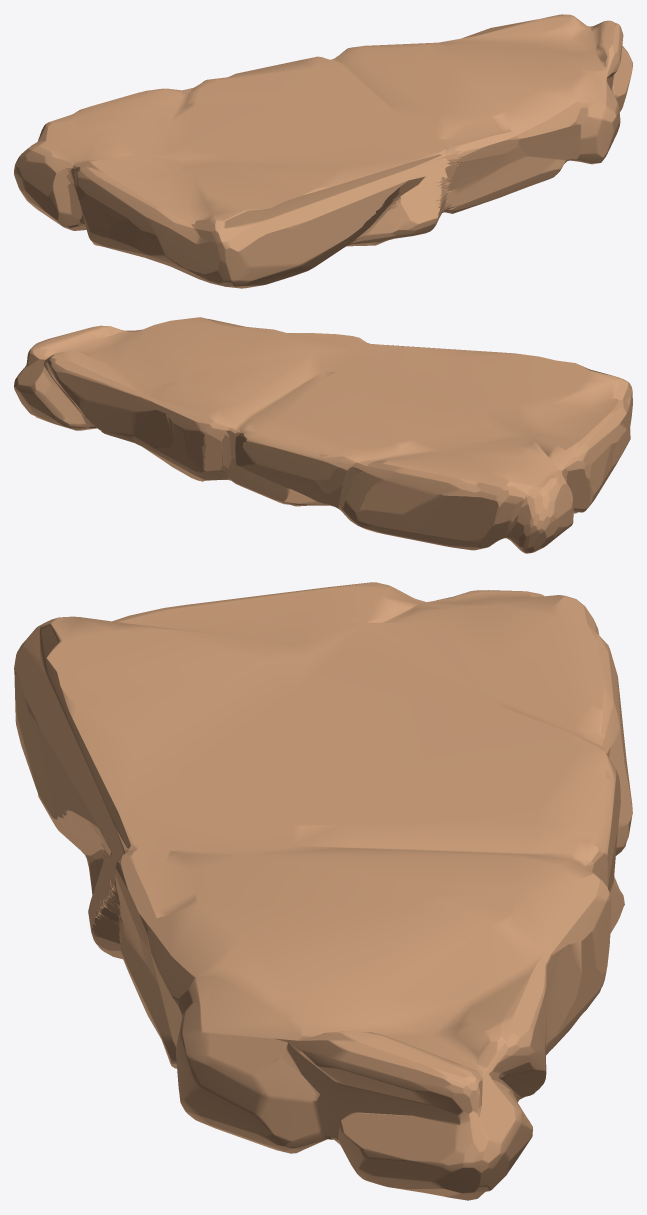
The picture shows the model from 3 angles, top to bottom: view 1: azimuth 30°, elevation 25°; view 2: azimuth 150°, elevation 25°; view 3: azimuth 270°, elevation 25°; orthographic projection. The views are drawn at different scales.
Visible parts, largest first — view 1: Mesh_114_LOD0; view 2: Mesh_114_LOD0; view 3: Mesh_114_LOD0.
Part boxes in pixels (x1,y1,x2,y2): Mesh_114_LOD0: (14, 14, 632, 288); Mesh_114_LOD0: (14, 317, 632, 553); Mesh_114_LOD0: (14, 582, 632, 1200).
Size of what is drawn, in the model's own units: 3048 by 425 by 1541.
